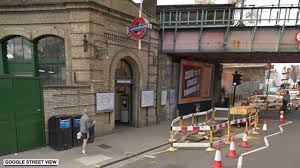London Underground: (130, 15, 147, 41)
